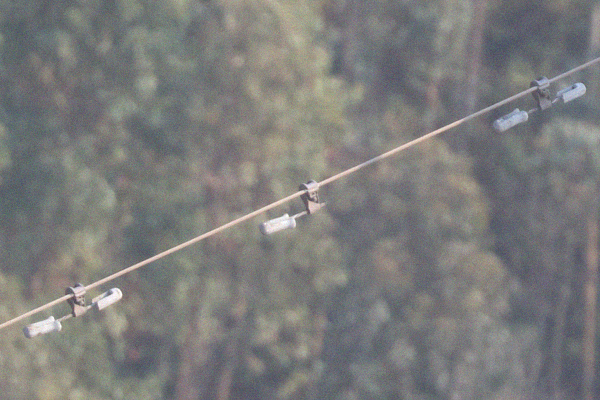damper: (487, 72, 589, 135), (19, 281, 123, 342)
damper_defect: (256, 178, 332, 239)
